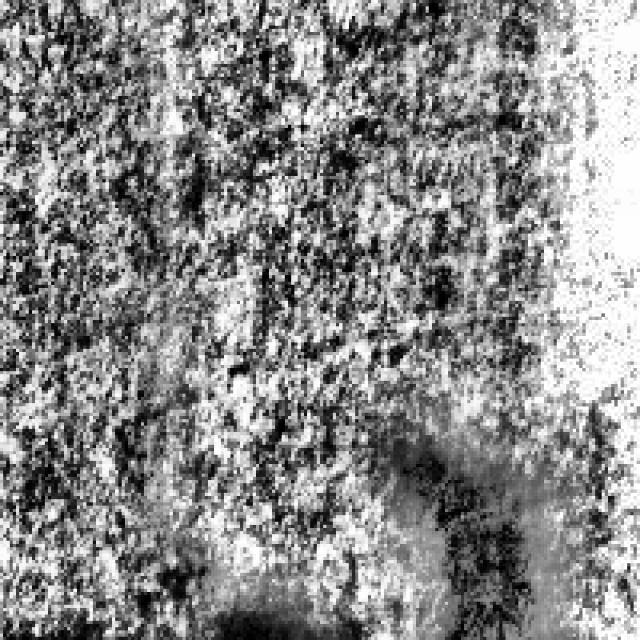Scratches: (387, 442, 538, 636)
